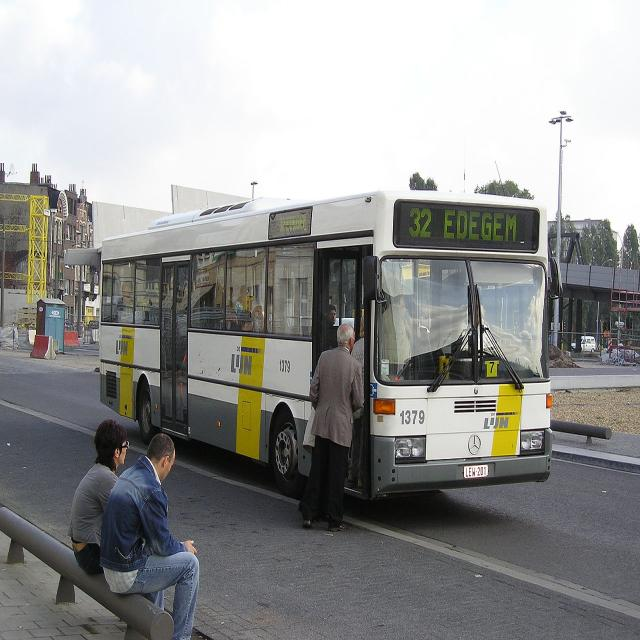bus-number: (406, 205, 434, 241)
